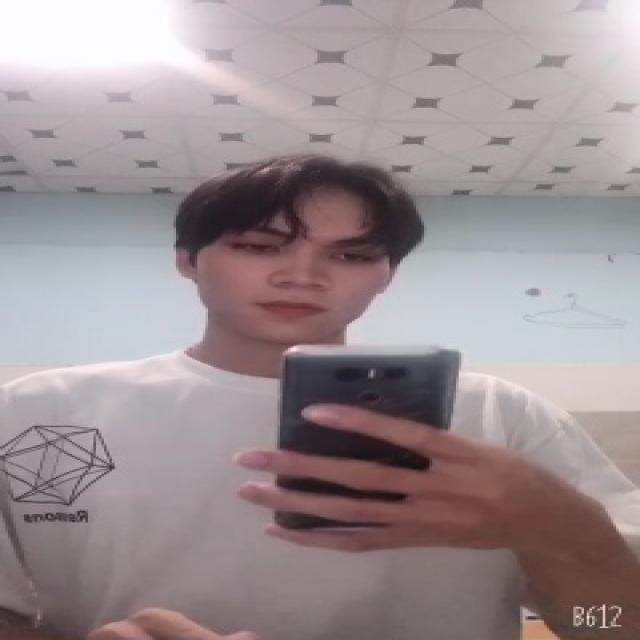Phone: (267, 343, 463, 531)
